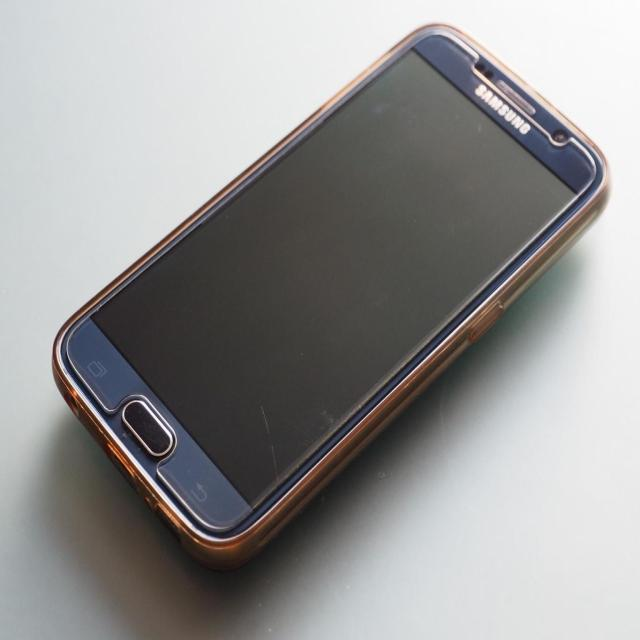Phone: (51, 21, 610, 573)
